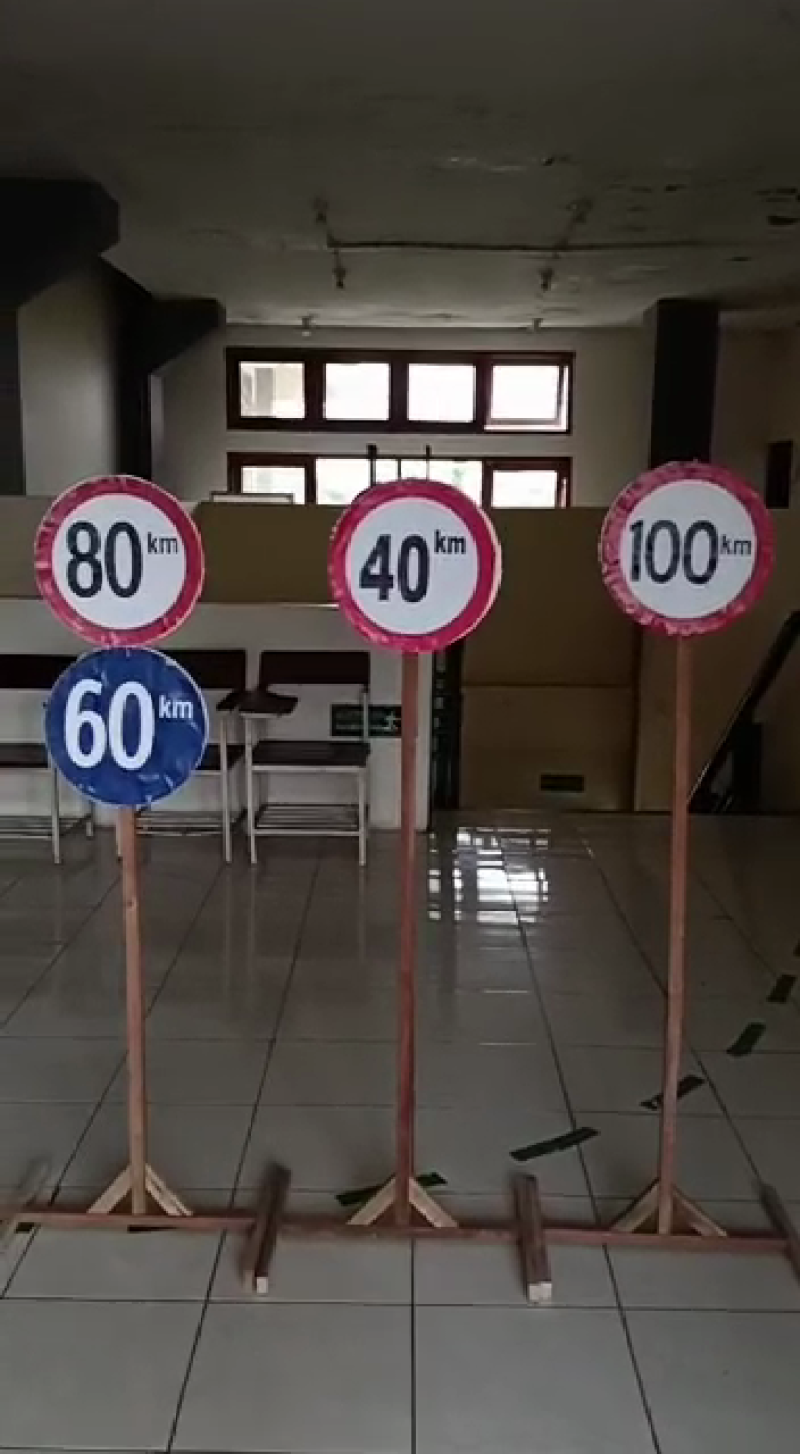batas maksimal 100kmperjam: (592, 459, 772, 640)
batas maksimal 40kmperjam: (324, 479, 509, 655)
batas maksimal 80kmperjam minimal 60kmperjam: (31, 459, 209, 822)
